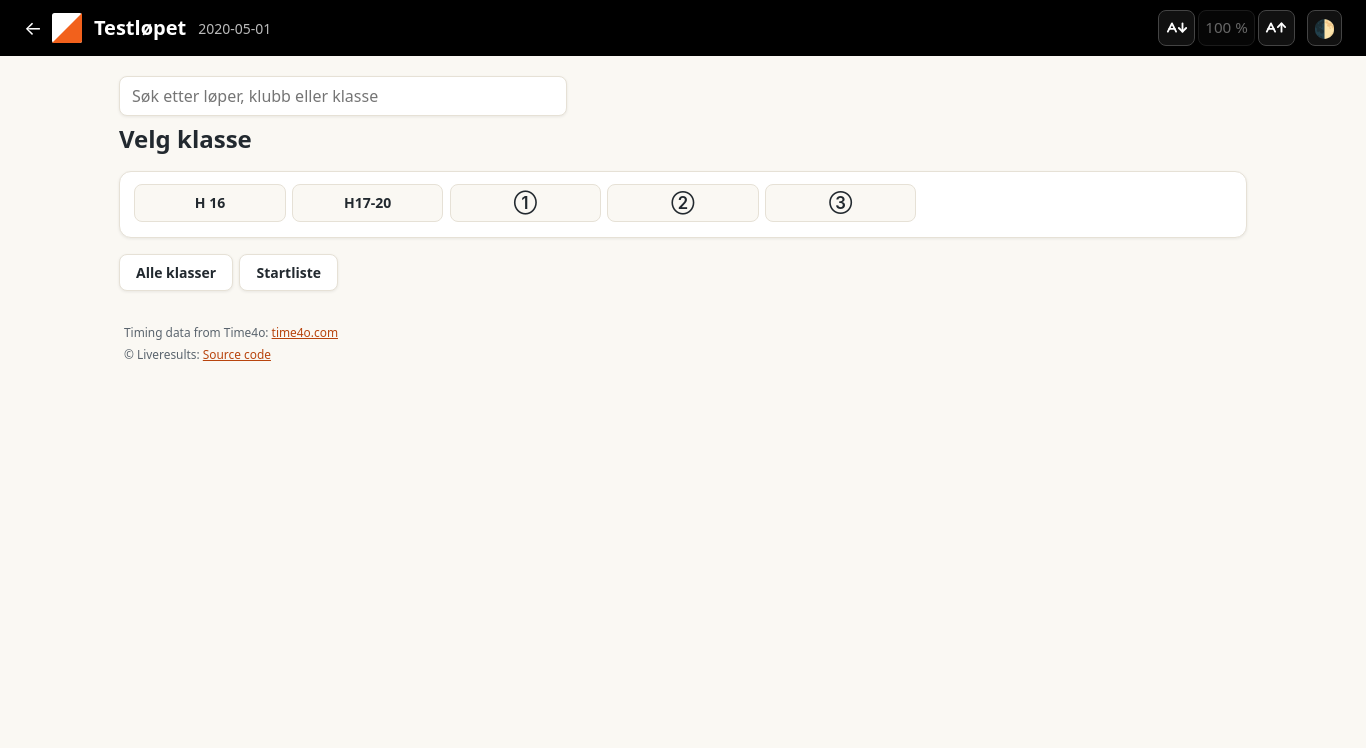
App › opens chosen classes as tabs in the new look
Check: the heading "Velg klasse" is shown, box [119,122,252,155]
Click the link "H 16" at (210, 203), box [134,184,286,222]
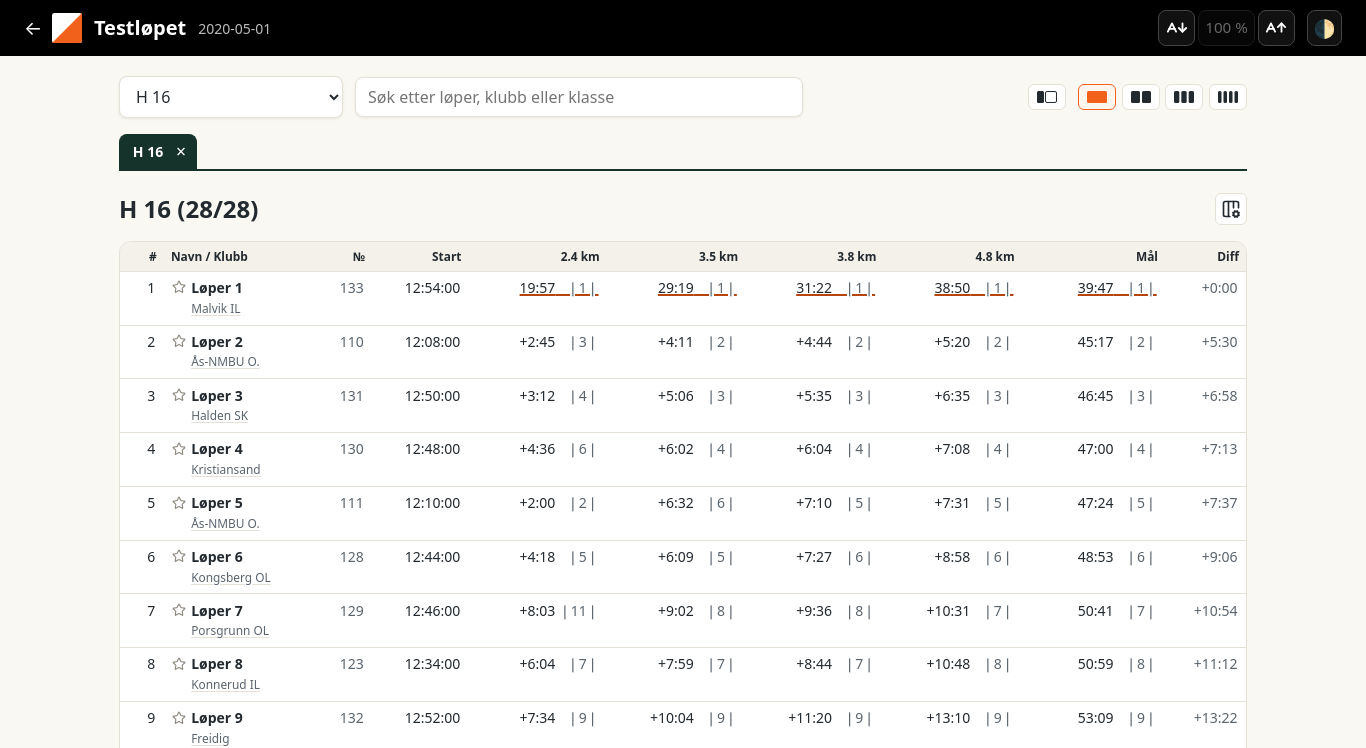
Select "Alle klasser" in the dropdown named "Velg klasse" at (231, 97), box [119,76,343,118]
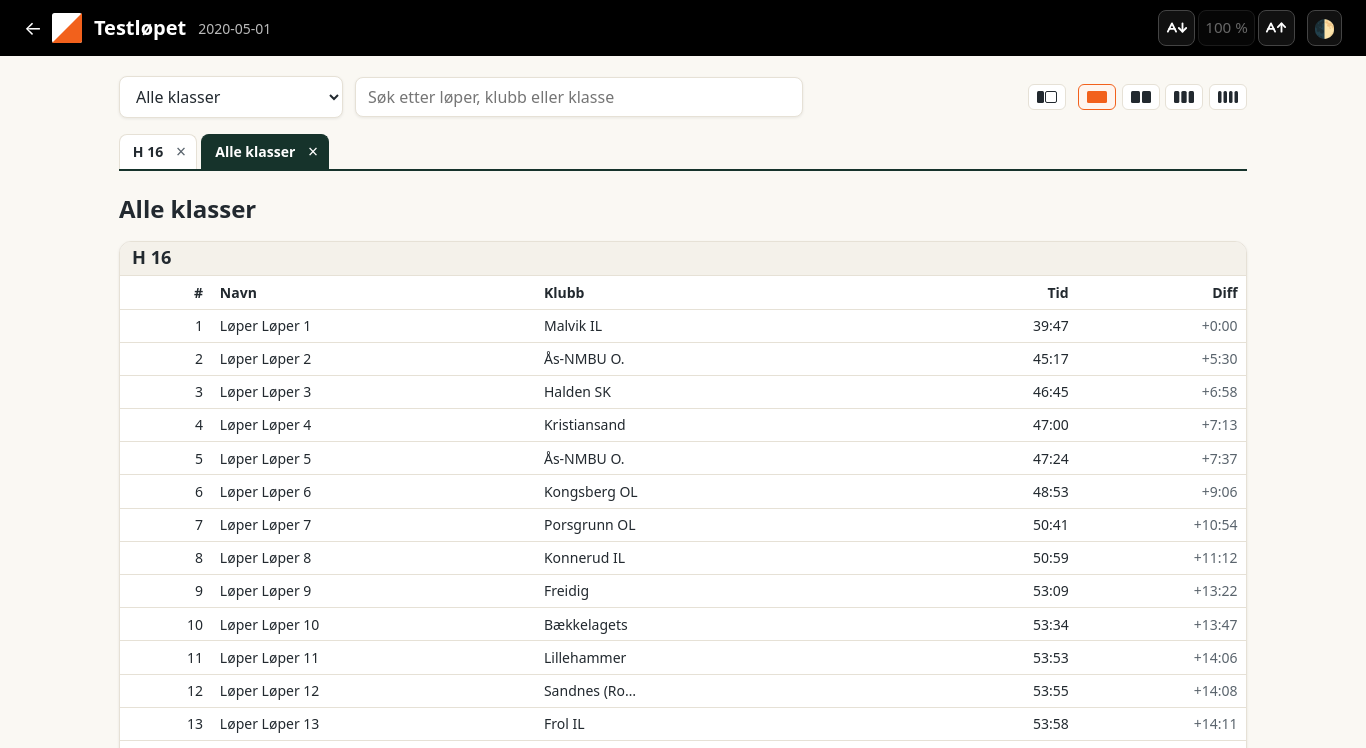
Check: the heading "Alle klasser" is shown, box [119,192,256,225]
Click the button named "Lukk " at (313, 152), box [298,138,328,166]
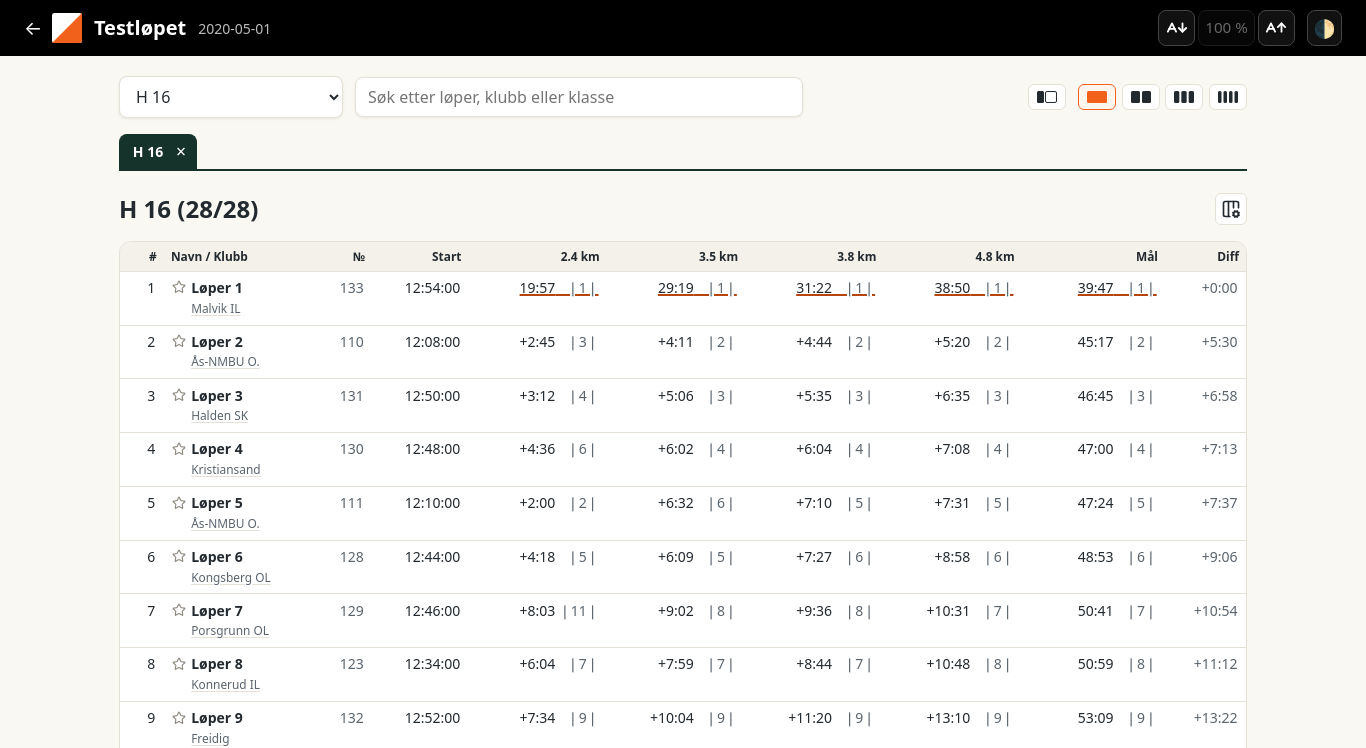
Click the button "×" at (181, 152), box [166,138,196,166]
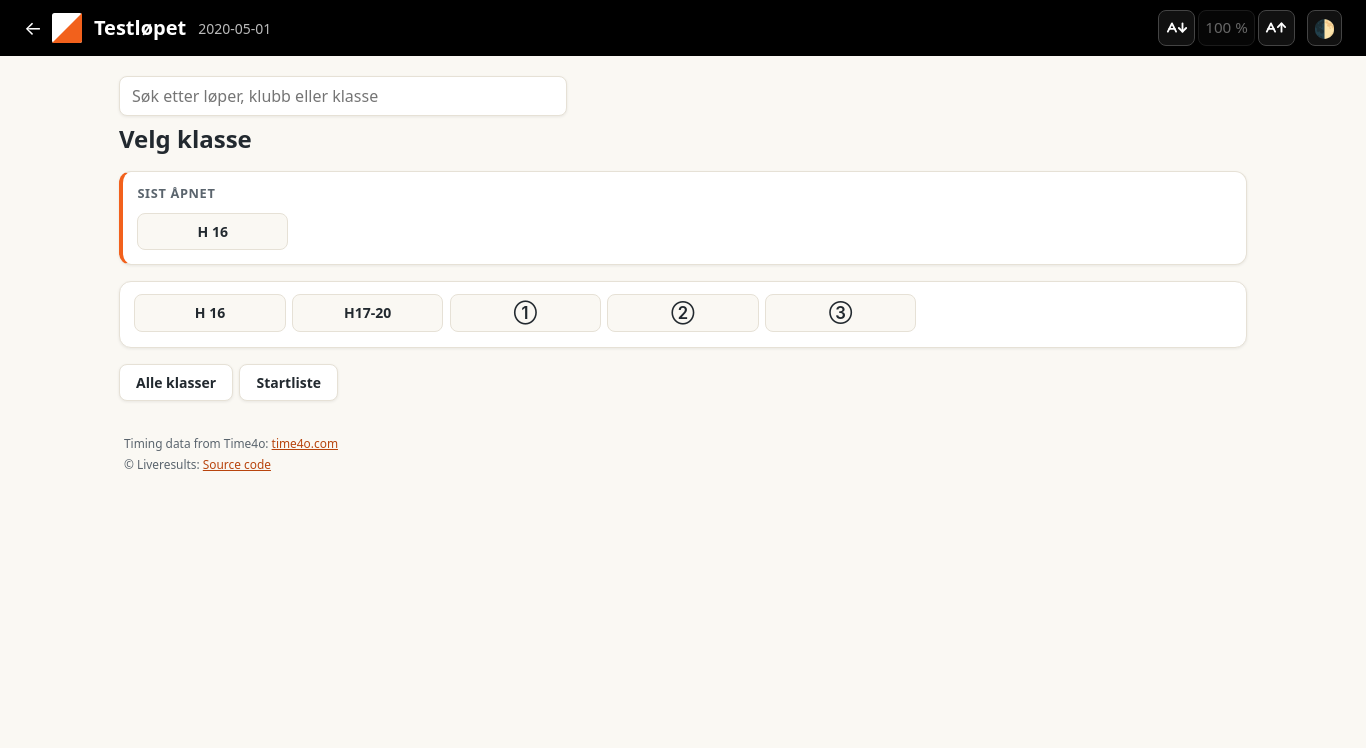
Check: the heading "Velg klasse" is shown, box [119,122,252,155]
